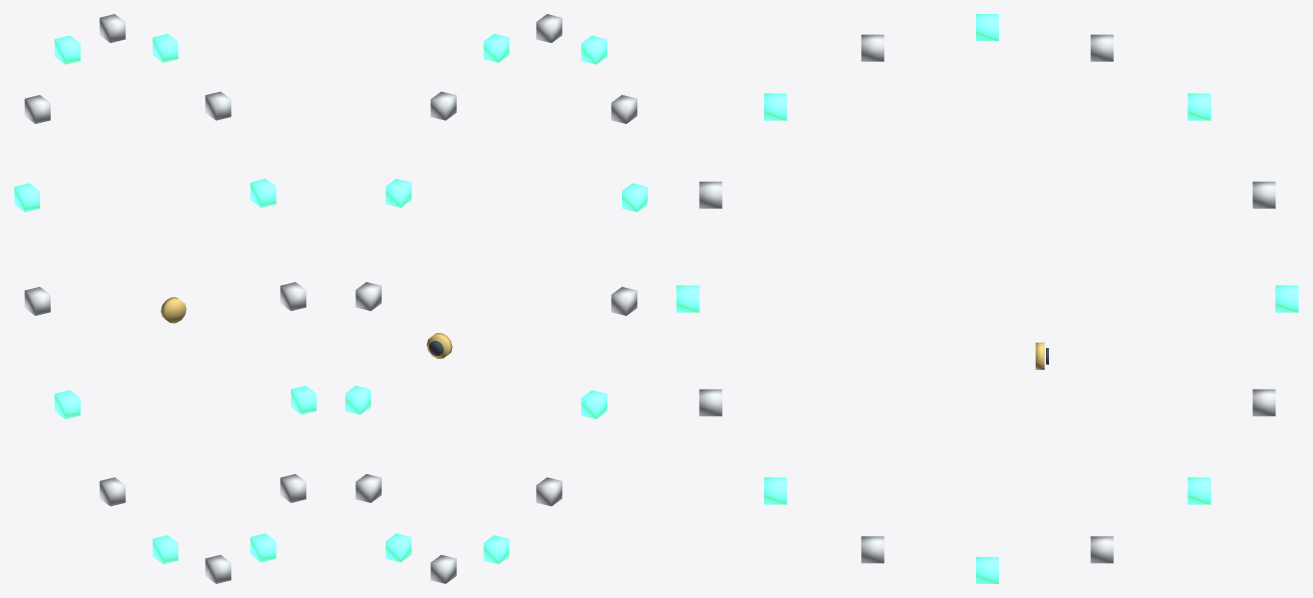
The model's file is L85_06_StationOpticalTargetMarkerArray_Fitted.fbx.
3 views of the same model, side by side, from view 1: azimuth 30°, elevation 25°; view 2: azimuth 150°, elevation 25°; view 3: azimuth 270°, elevation 25° (orthographic). The views are drawn at different scales.
Parts seen in each view (by area): view 1: L85_StationOpticalTargetMarkerArray_ANIM_TARGET_MARKER_SCAN_ (×2), L85_StationOpticalTargetMarkerArray_Static__tintF7B83D; view 2: L85_StationOpticalTargetMarkerArray_ANIM_TARGET_MARKER_SCAN_ (×2); view 3: L85_StationOpticalTargetMarkerArray_ANIM_TARGET_MARKER_SCAN_ (×2).
Boxes of the visible parts, left/top/right/bottom form: L85_StationOpticalTargetMarkerArray_ANIM_TARGET_MARKER_SCAN_ (×2): left=14, top=14, right=316, bottom=583; L85_StationOpticalTargetMarkerArray_Static__tintF7B83D: left=160, top=297, right=186, bottom=323; L85_StationOpticalTargetMarkerArray_ANIM_TARGET_MARKER_SCAN_ (×2): left=345, top=14, right=647, bottom=583; L85_StationOpticalTargetMarkerArray_ANIM_TARGET_MARKER_SCAN_ (×2): left=676, top=14, right=1298, bottom=583.
Size of the model in its own units: 2.9 by 28.22 by 28.32.
